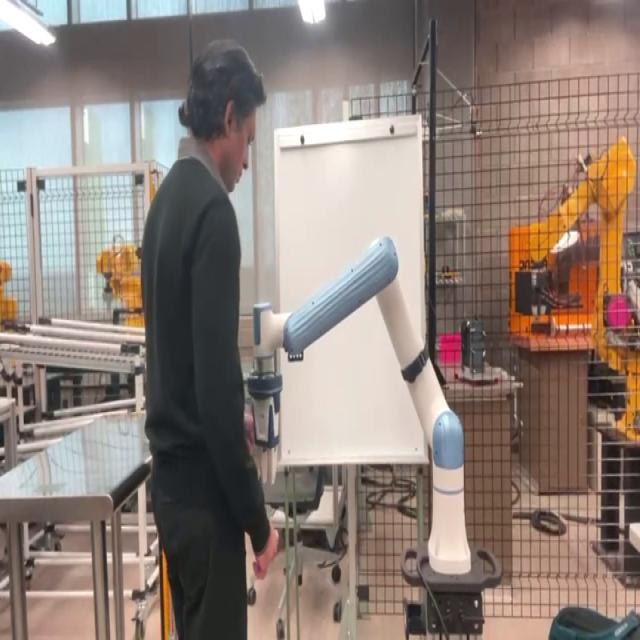robot: (246, 233, 504, 639)
